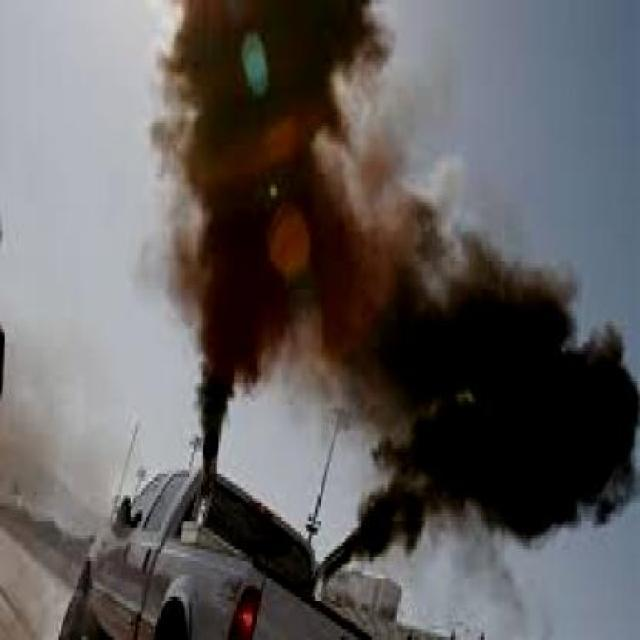Smoke: (134, 0, 640, 558)
